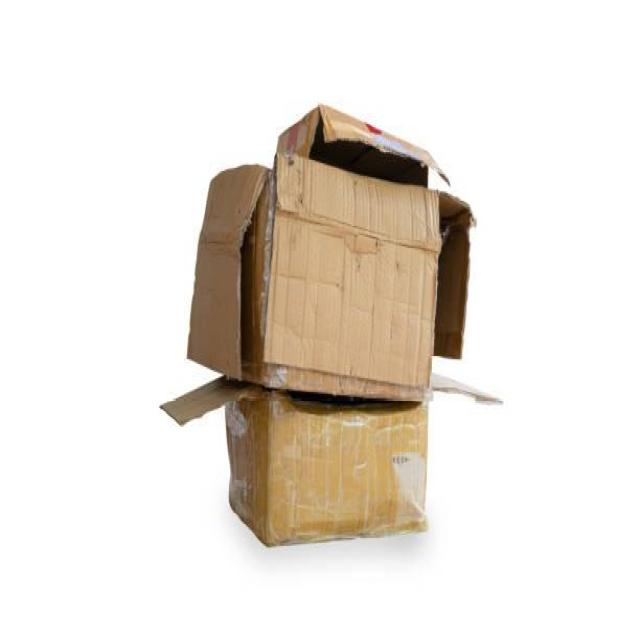cardboard: (186, 154, 478, 403), (160, 372, 502, 548), (272, 100, 449, 194)
